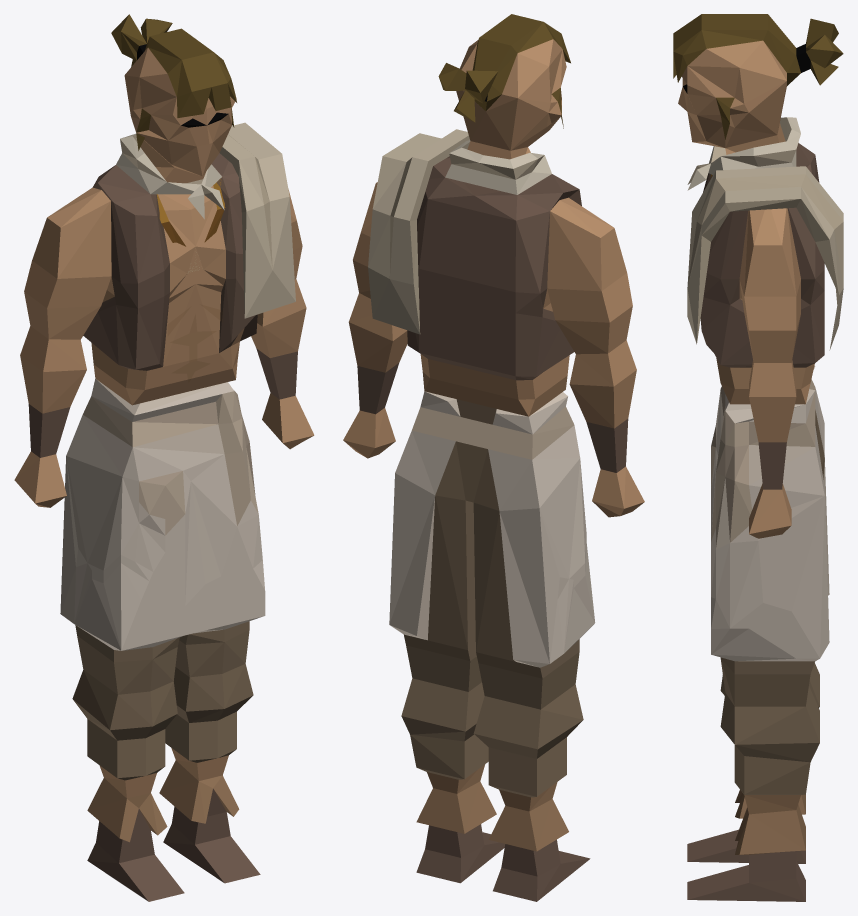
The model's file is bars-inns.gltf.
3 views of the same model, side by side, from view 1: azimuth 30°, elevation 25°; view 2: azimuth 150°, elevation 25°; view 3: azimuth 270°, elevation 25° (orthographic). The views are drawn at different scales.
Bounding box in the file's own units: 70 × 198 × 36.
Materials: 2 (2 with a texture image).
